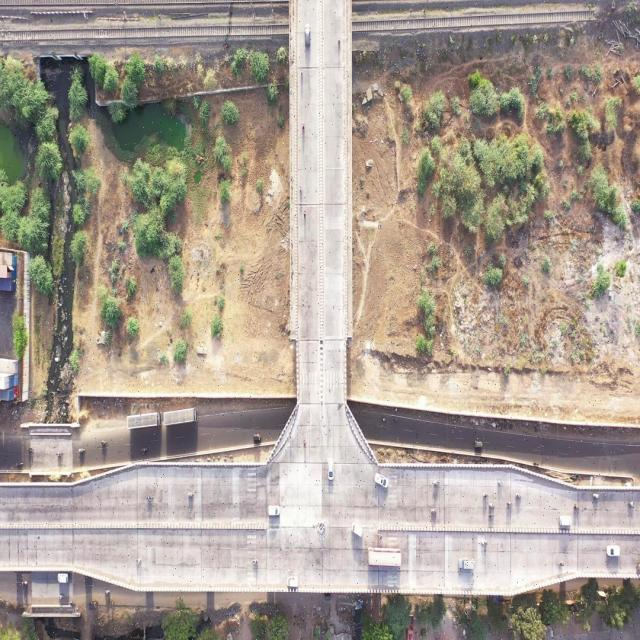3W: (472, 438, 484, 451), (88, 600, 99, 612), (253, 433, 263, 443), (324, 593, 331, 600)
Bus: (365, 543, 403, 573), (163, 407, 199, 427), (126, 410, 162, 430)
Cars: (373, 470, 390, 492), (349, 518, 366, 540), (457, 556, 476, 571), (606, 543, 622, 559), (304, 21, 312, 51), (267, 502, 282, 518), (286, 574, 300, 590), (327, 456, 335, 483), (558, 513, 573, 527), (57, 573, 71, 587)
M2W: (78, 446, 86, 455), (187, 491, 195, 500), (592, 492, 600, 501), (556, 559, 564, 568), (487, 501, 496, 509), (487, 511, 495, 520), (337, 33, 341, 51), (302, 208, 307, 221), (146, 495, 154, 503), (251, 558, 259, 566), (302, 118, 306, 134), (15, 461, 24, 468), (21, 579, 28, 588), (300, 66, 304, 81), (27, 446, 35, 453), (392, 416, 400, 423), (627, 500, 635, 507), (481, 539, 488, 547), (496, 480, 504, 487), (506, 500, 513, 508), (136, 558, 143, 566), (140, 447, 149, 453), (101, 439, 108, 446), (532, 461, 539, 468), (482, 492, 489, 499), (515, 492, 522, 499), (433, 480, 440, 487), (430, 508, 437, 515), (376, 533, 383, 540), (104, 589, 111, 596), (56, 451, 64, 457), (303, 436, 307, 448), (299, 181, 302, 197), (573, 504, 580, 510), (57, 593, 64, 599), (70, 601, 77, 607), (382, 417, 387, 424)
